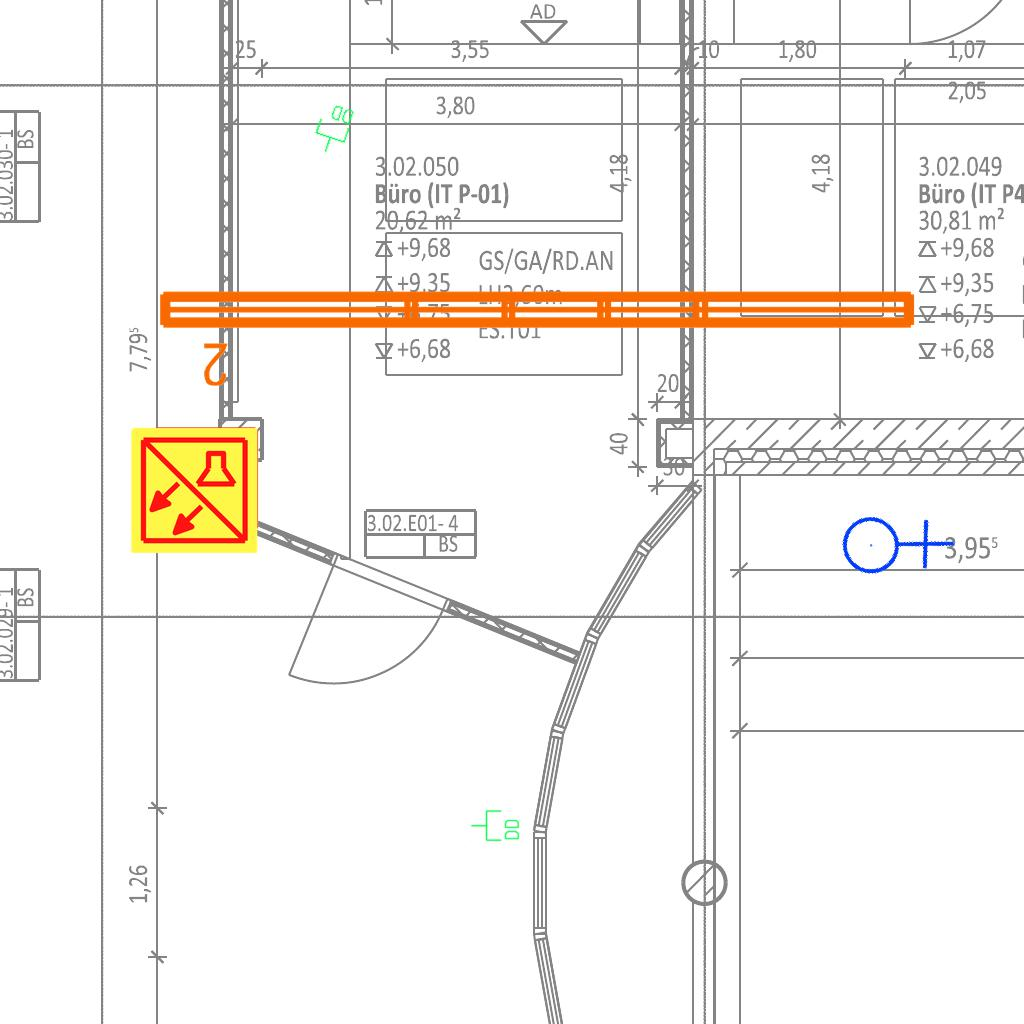Ambulanz_Pendelleuchte_LED: (151, 279, 925, 391)
Datenanschluss_zweifach: (309, 99, 358, 159), (470, 809, 521, 843)
Elektroanschluss_allgemein_230V_Geraeteanschlussdose_230V: (823, 472, 960, 610)
OKW_Multisensormelder_(Kombination_optischer_Rauch-Kahlenmonoxid_Waerme-Melder): (128, 424, 260, 556)
